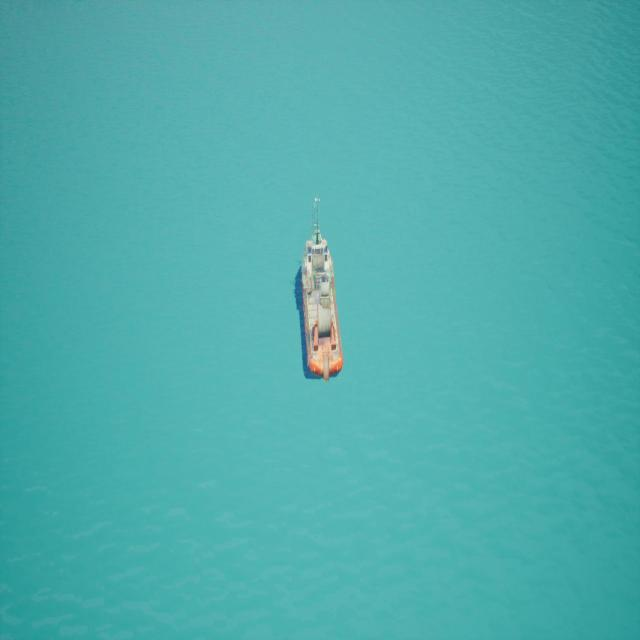tug boat: (273, 189, 355, 404)
